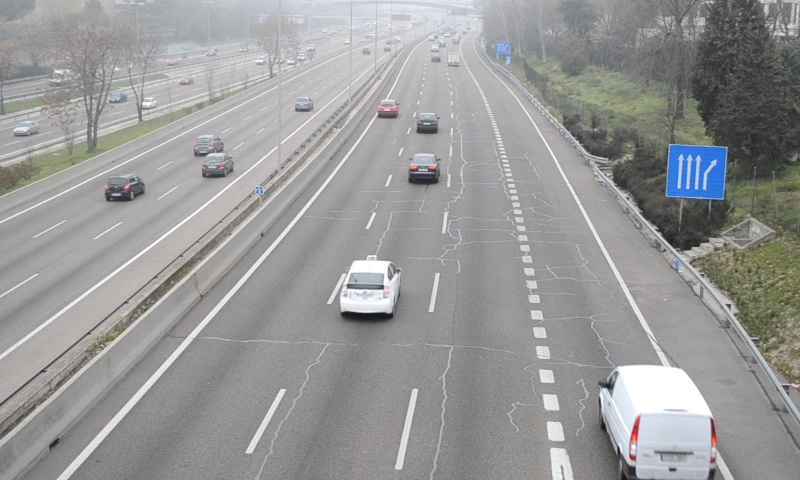car: (339, 259, 398, 314), (409, 152, 438, 178), (416, 112, 438, 132), (376, 99, 396, 116)
van: (600, 364, 715, 480)
